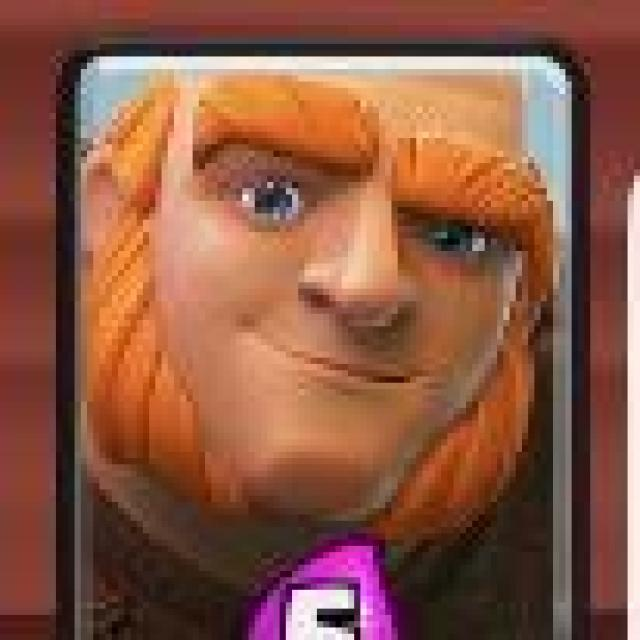Giant: (57, 45, 590, 640)
